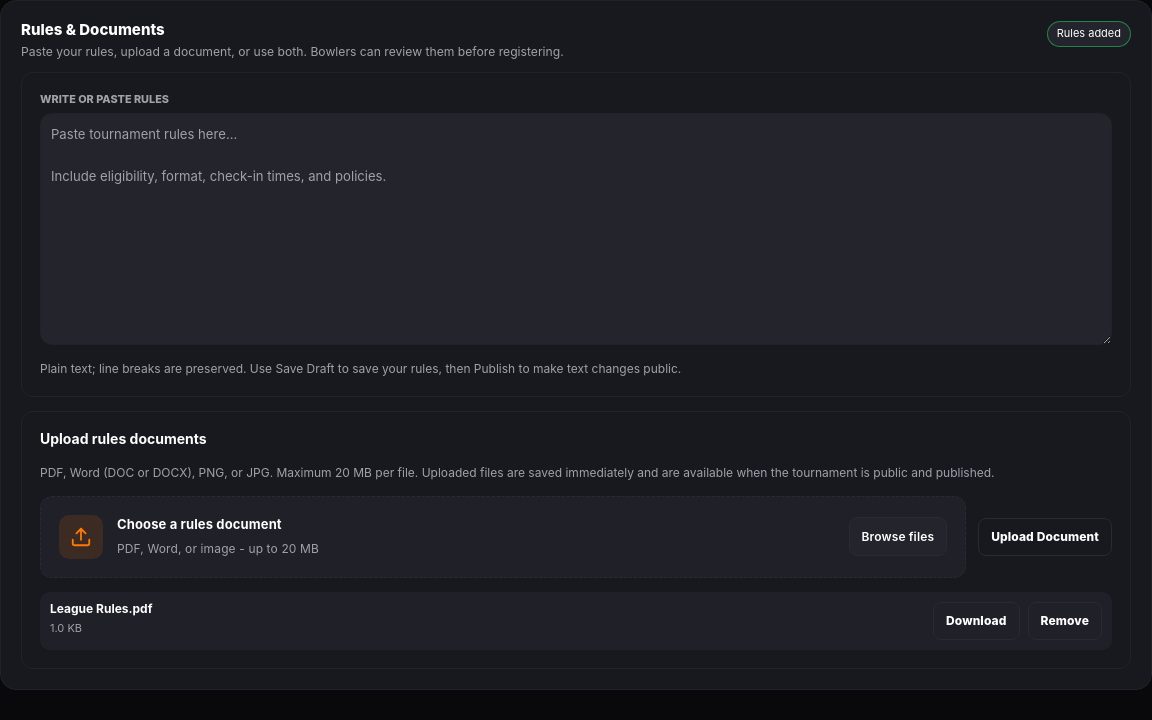
Rules & Documents setup › keeps a document listed when removal fails
Click the button "Remove".
click(1065, 621)  # box [1028,602,1102,640]
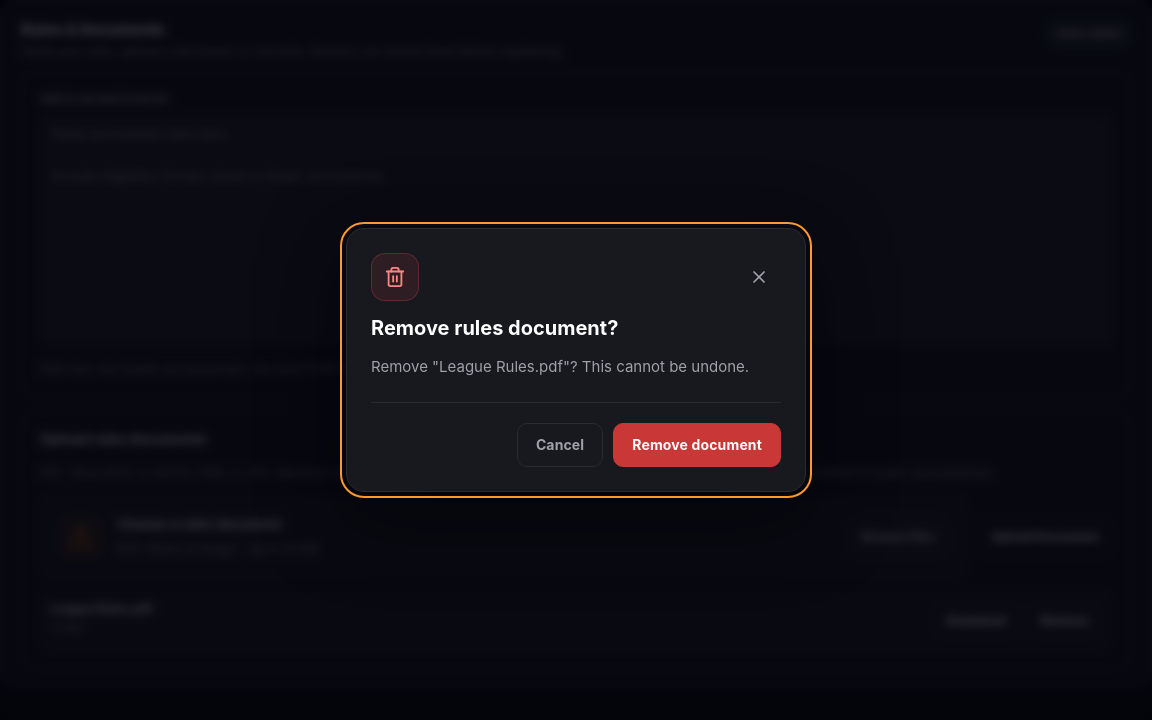
Click the button "Remove document".
click(697, 445)  # box [613,423,781,467]
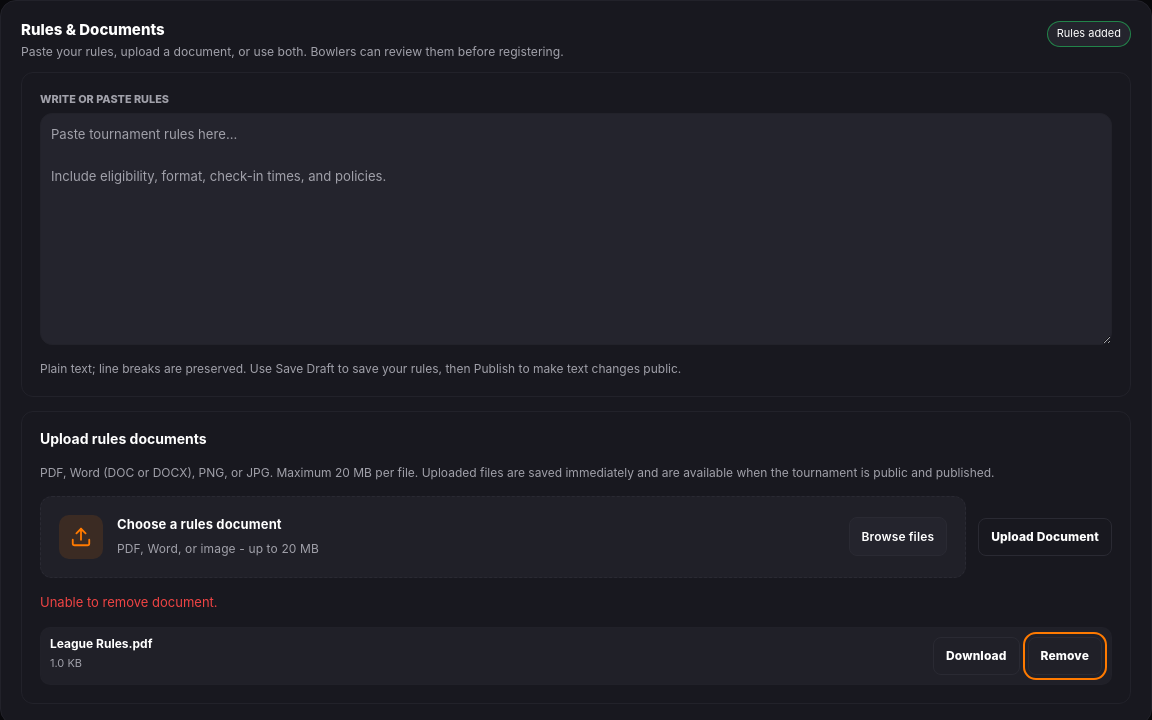
Expected: the text "League Rules.pdf" is shown, [50,636,152,651]
Now the message reads "Unable to remove document.", box [40,594,218,610]
